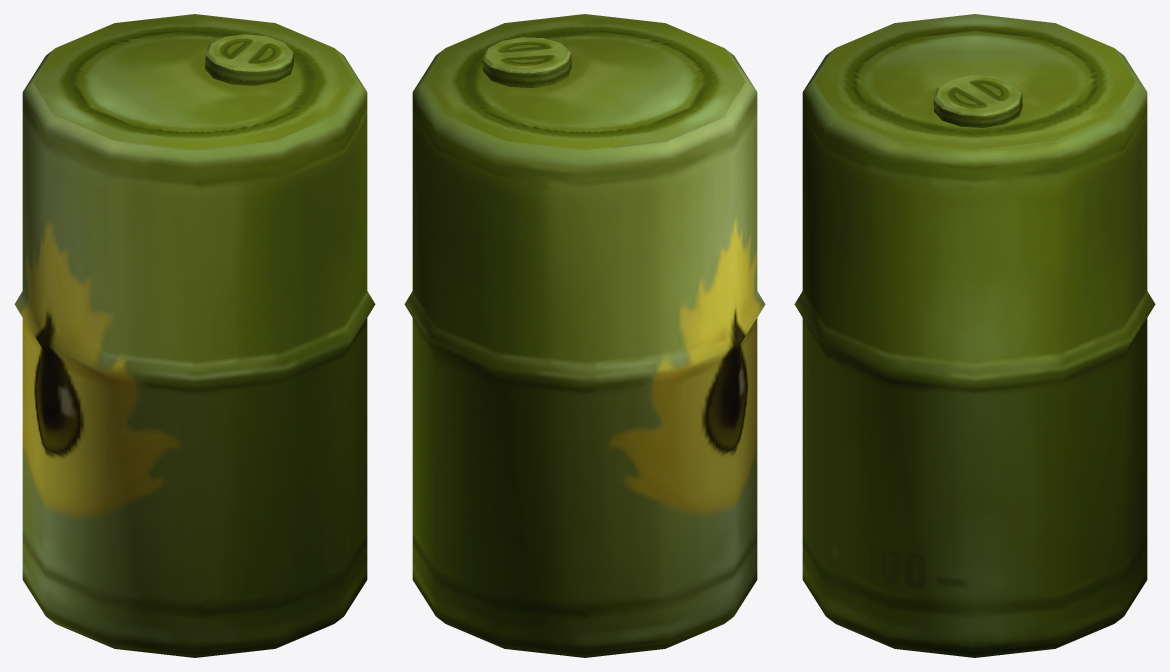
The model's file is Oil.FBX.
3 views of the same model, side by side, from view 1: azimuth 30°, elevation 25°; view 2: azimuth 150°, elevation 25°; view 3: azimuth 270°, elevation 25° (orthographic).
Visible parts, largest first — view 1: shiyou_01; view 2: shiyou_01; view 3: shiyou_01.
Boxes of the visible parts, <box> form: shiyou_01: <box>14,14,375,657</box>; shiyou_01: <box>404,14,765,657</box>; shiyou_01: <box>794,14,1155,657</box>.
Size of the model in its own units: 23.98 by 38.48 by 23.98.
